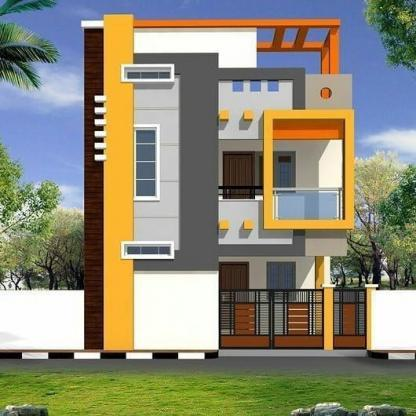Balcony: (218, 186, 346, 244), (218, 67, 352, 109)
Building Outline: (81, 13, 416, 350)
Door: (220, 262, 249, 329), (225, 152, 254, 218)
Facade: (81, 13, 355, 350)
Floor Slab: (218, 110, 352, 121), (218, 245, 346, 256)
Window: (136, 131, 155, 197), (259, 156, 291, 190), (269, 263, 294, 299), (127, 71, 170, 80), (127, 246, 170, 254)
